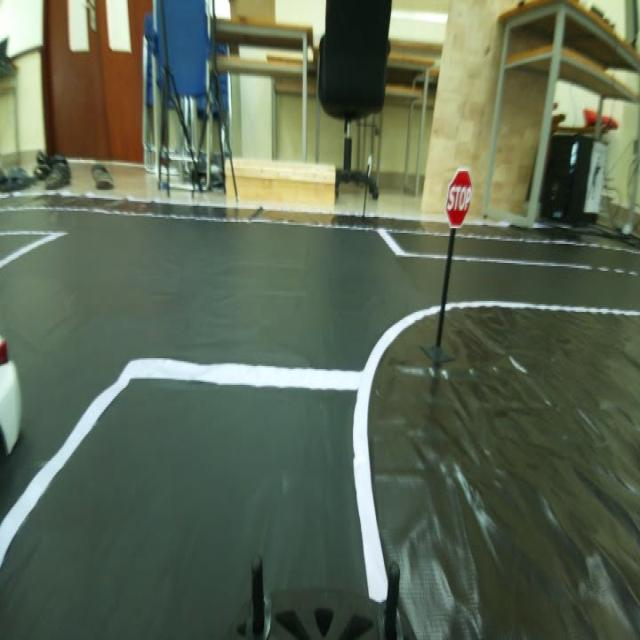stop: (438, 163, 481, 244)
